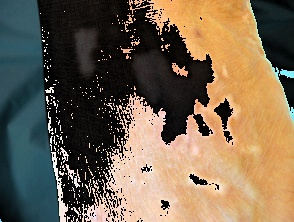vitiligo: (107, 32, 215, 144), (68, 13, 113, 92)
